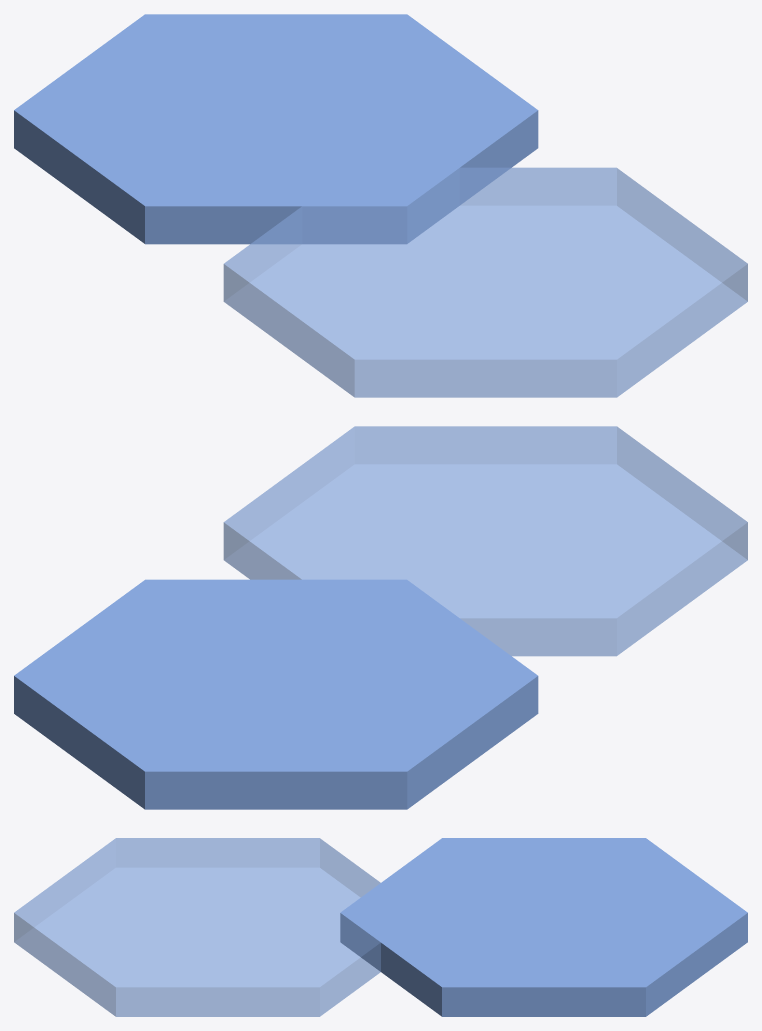
File: razzo_step3.glb
3 views of the same model, one above another, from view 1: azimuth 30°, elevation 25°; view 2: azimuth 150°, elevation 25°; view 3: azimuth 270°, elevation 25° (orthographic). The views are drawn at different scales.
Visible parts, largest first — view 1: esagono, esagono.001; view 2: esagono.001, esagono; view 3: esagono.001, esagono.
Boxes of the visible parts, x1,y1,x2,y2 form: esagono: [223, 167, 747, 397]; esagono.001: [14, 14, 538, 244]; esagono.001: [14, 579, 538, 809]; esagono: [223, 426, 747, 656]; esagono.001: [340, 838, 747, 1016]; esagono: [14, 838, 401, 1016].
Size of the model in its own units: 0.866 by 0.08 by 1.8.
